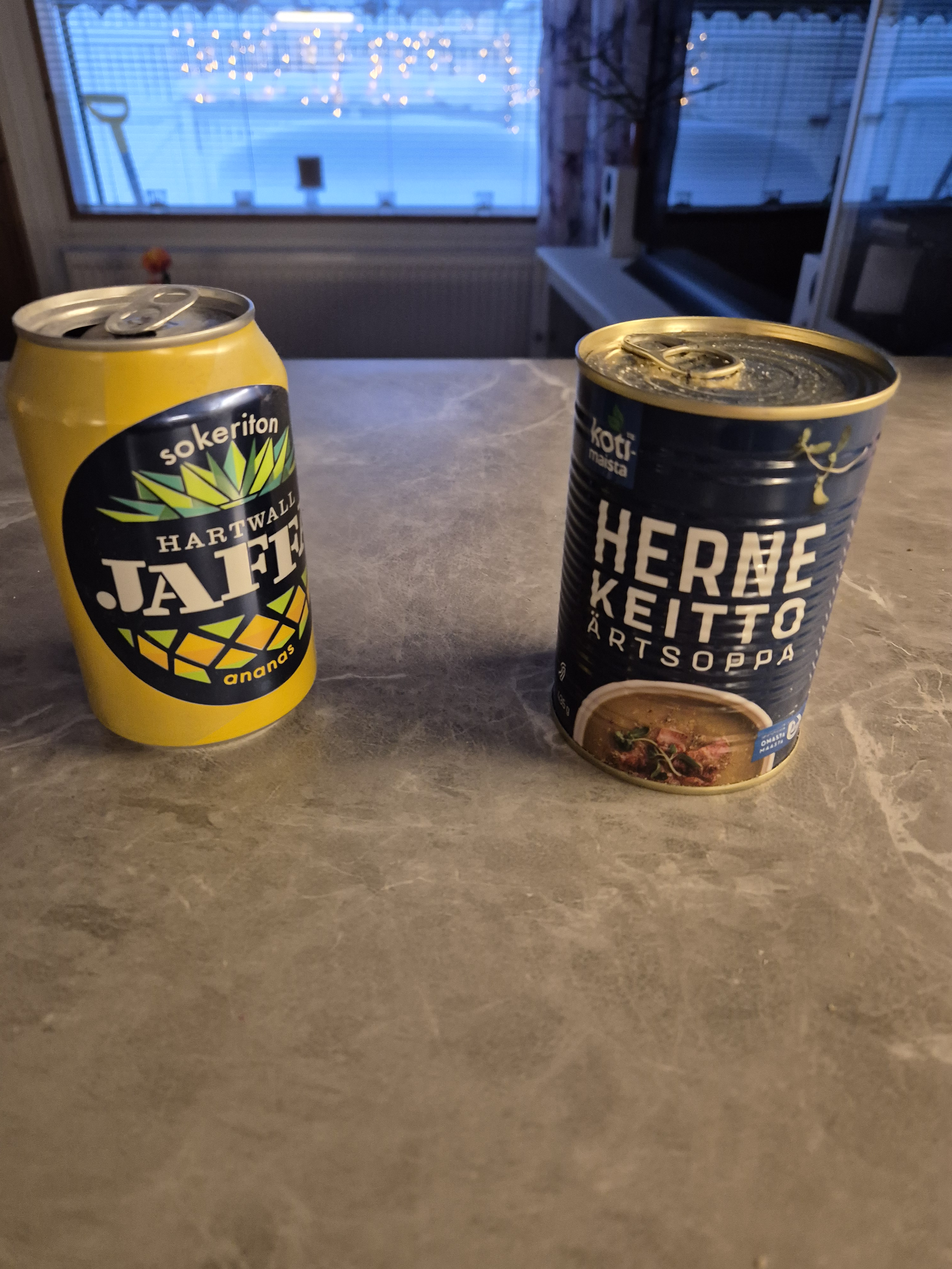Konservburk: (548, 315, 905, 796)
Pantburk: (4, 283, 318, 749)
